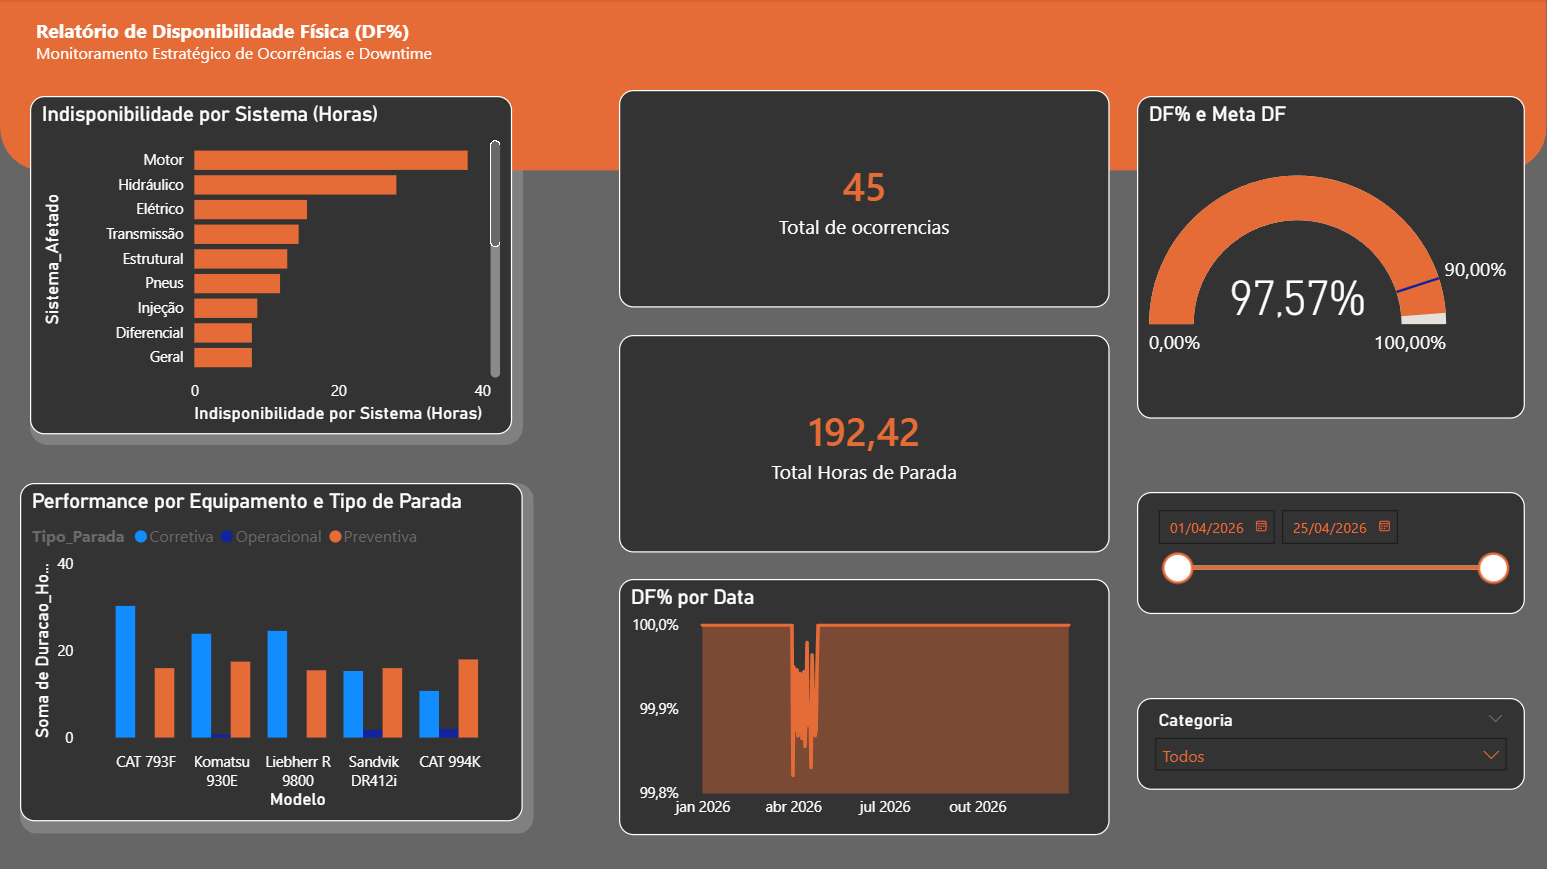

The page's visual inventory and layout, read from the dashboard file:
{"tool":"powerbi","page":{"name":"Página 1","canvas":[1280,720],"ordinal":0},"visuals":[{"type":"shape","box":[16.6,400.6,425.4,290.5],"z":0},{"type":"shape","box":[24.8,75.3,408,293.8],"z":1000},{"type":"shape","box":[0,0,1280,142.2],"z":2000},{"type":"clusteredBarChart","title":"Indisponibilidade por Sistema (Horas) ","fields":{"Category":["tbl_Eventos.Sistema_Afetado"],"Y":["Sum(tbl_Eventos.Duracao_Horas)"]},"box":[24.9,80,399.1,280],"z":3000},{"type":"clusteredColumnChart","title":"Performance por Equipamento e Tipo de Parada","fields":{"Category":["tbl_Eventos.Modelo"],"Y":["Sum(tbl_Eventos.Duracao_Horas)"],"Series":["tbl_Eventos.Tipo_Parada"]},"box":[16.9,400.9,416,280],"z":4000},{"type":"cardVisual","fields":{"Data":["Sum(tbl_Eventos.Duracao_Horas)"]},"box":[512,278.2,406.2,180.4],"z":5000},{"type":"cardVisual","fields":{"Data":["CountNonNull(tbl_Eventos.Equipamento)"]},"box":[512,75.6,406.2,180.4],"z":6000},{"type":"gauge","fields":{"Y":["tbl_Ativos.DF%"],"TargetValue":["tbl_Ativos.Meta DF"]},"box":[941.3,80,320.9,266.7],"z":7000},{"type":"slicer","fields":{"Values":["tbl_Eventos.Data"]},"box":[941.3,408,320.9,101.3],"z":8000},{"type":"slicer","fields":{"Values":["tbl_Ativos.Categoria"]},"box":[941.3,578.7,320.9,75.6],"z":9000},{"type":"textbox","box":[24.9,9.8,353.8,70.2],"z":10000},{"type":"areaChart","title":"DF% por Data","fields":{"Y":["tbl_Ativos.DF%"],"Category":["tbl_Eventos.Data.Variation.Hierarquia de datas.Ano","tbl_Eventos.Data.Variation.Hierarquia de datas.Trimestre","tbl_Eventos.Data.Variation.Hierarquia de datas.Mês","tbl_Eventos.Data.Variation.Hierarquia de datas.Dia"]},"box":[512,480,406.2,211.6],"z":11000}]}

Visuals, with their boxes in screenshot pixels (x1, y1, x2, y2), scaled from the page's 1280x720 canvas onto the 1547x869 screenshot:
shape: <bbox>20, 484, 534, 834</bbox>
shape: <bbox>30, 91, 523, 445</bbox>
shape: <bbox>0, 0, 1546, 172</bbox>
"Indisponibilidade por Sistema (Horas) " clusteredBarChart: <bbox>30, 97, 512, 434</bbox>
"Performance por Equipamento e Tipo de Parada" clusteredColumnChart: <bbox>20, 484, 523, 822</bbox>
cardVisual - Sum(tbl_Eventos.Duracao_Horas): <bbox>619, 336, 1110, 554</bbox>
cardVisual - CountNonNull(tbl_Eventos.Equipamento): <bbox>619, 91, 1110, 309</bbox>
gauge - tbl_Ativos.DF% x tbl_Ativos.Meta DF: <bbox>1138, 97, 1525, 418</bbox>
slicer - tbl_Eventos.Data: <bbox>1138, 492, 1525, 615</bbox>
slicer - tbl_Ativos.Categoria: <bbox>1138, 698, 1525, 790</bbox>
textbox: <bbox>30, 12, 458, 97</bbox>
"DF% por Data" areaChart: <bbox>619, 579, 1110, 835</bbox>
